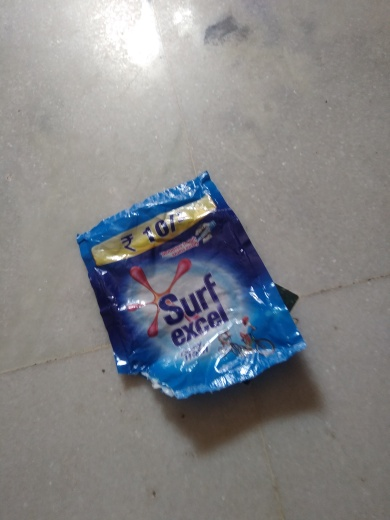surf: (62, 177, 311, 404)
